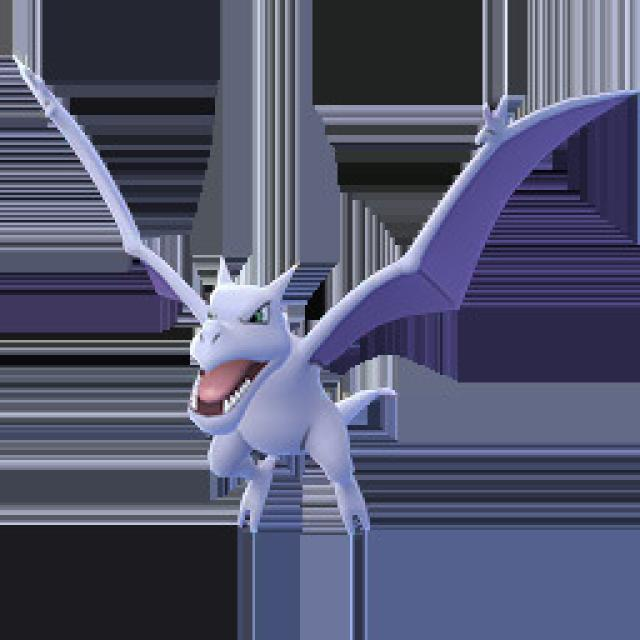Aerodactyl: (130, 243, 427, 544)
